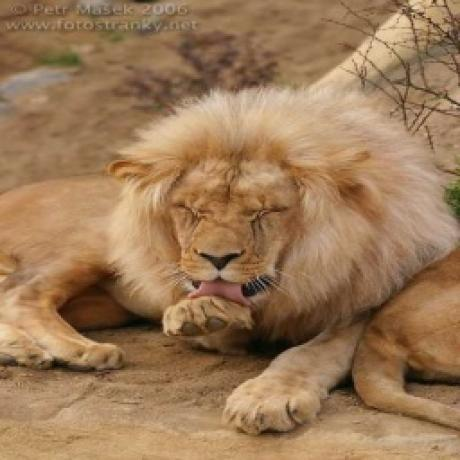Lion: (0, 79, 460, 435)
